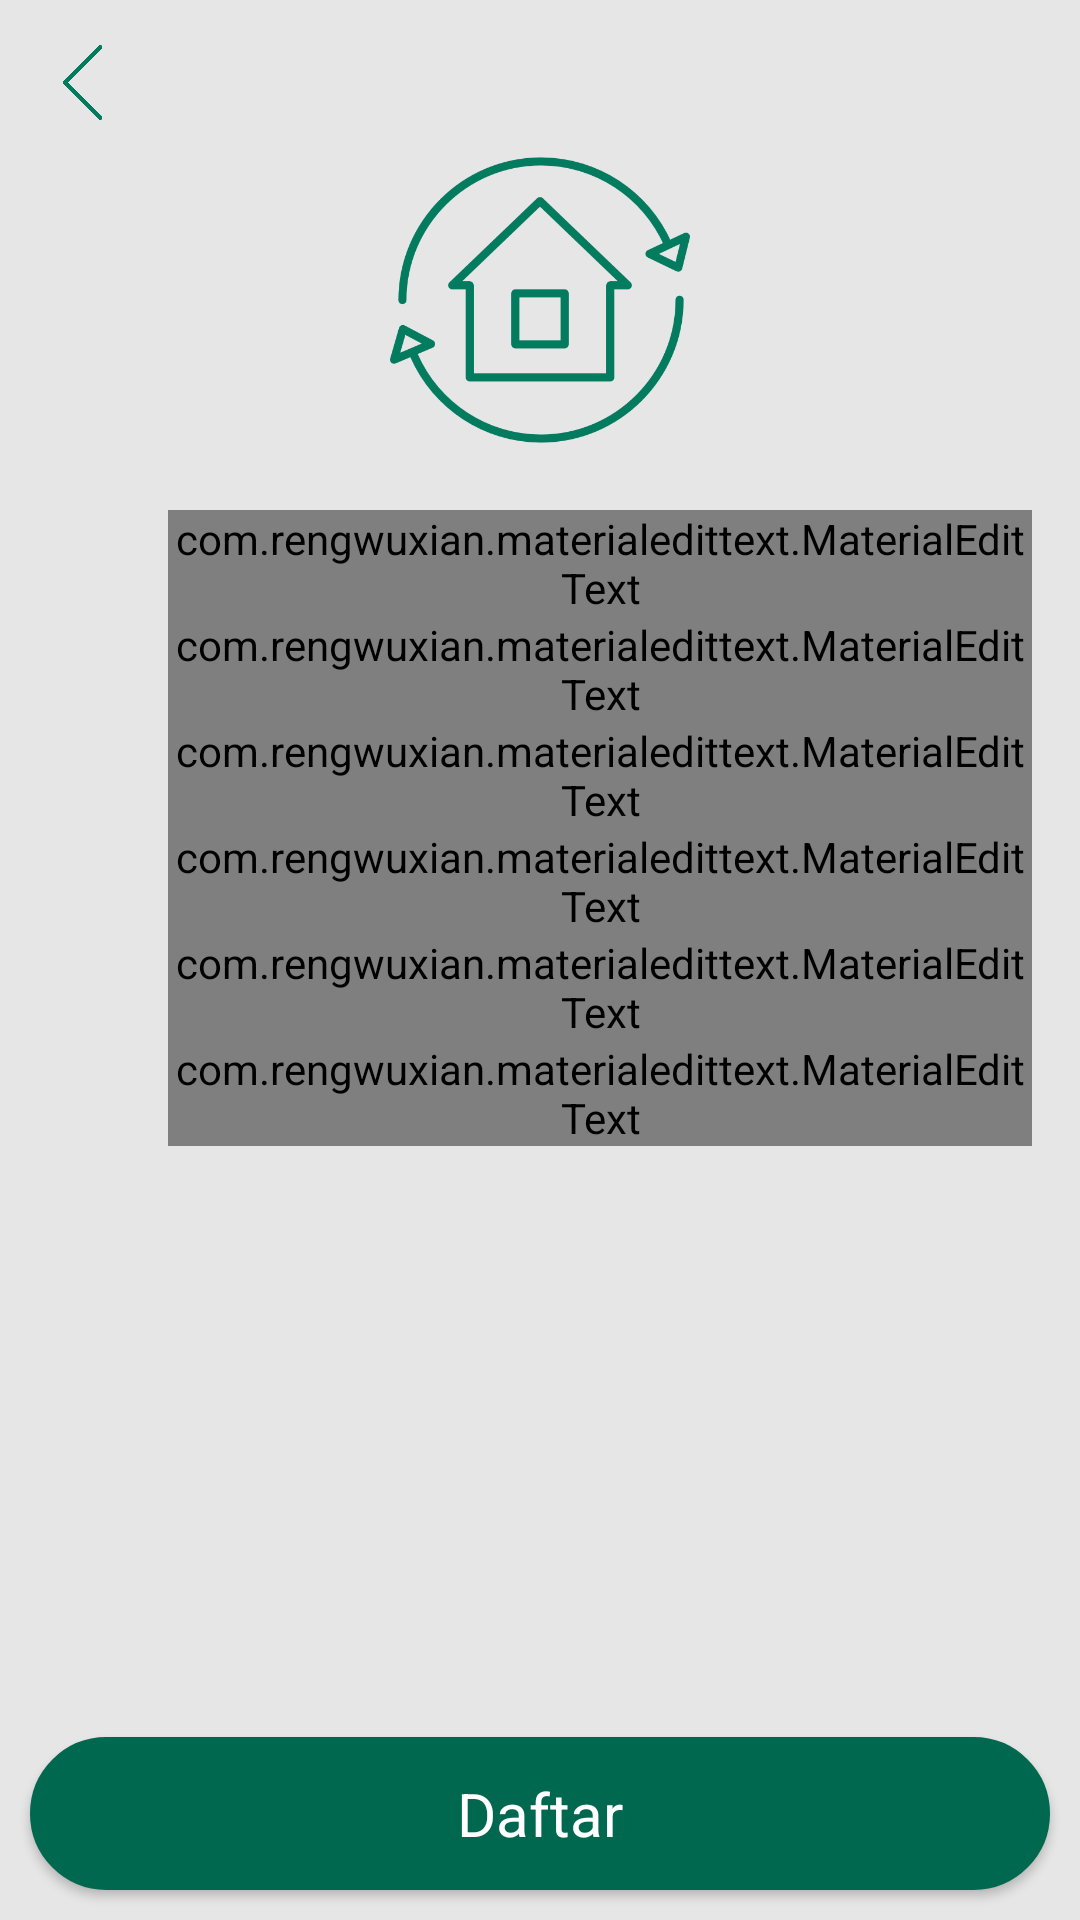

Screen size 1080×1920. Icon name, then its center in pixels as (x,y):
back: (82,82)
house daftar: (540,300)
